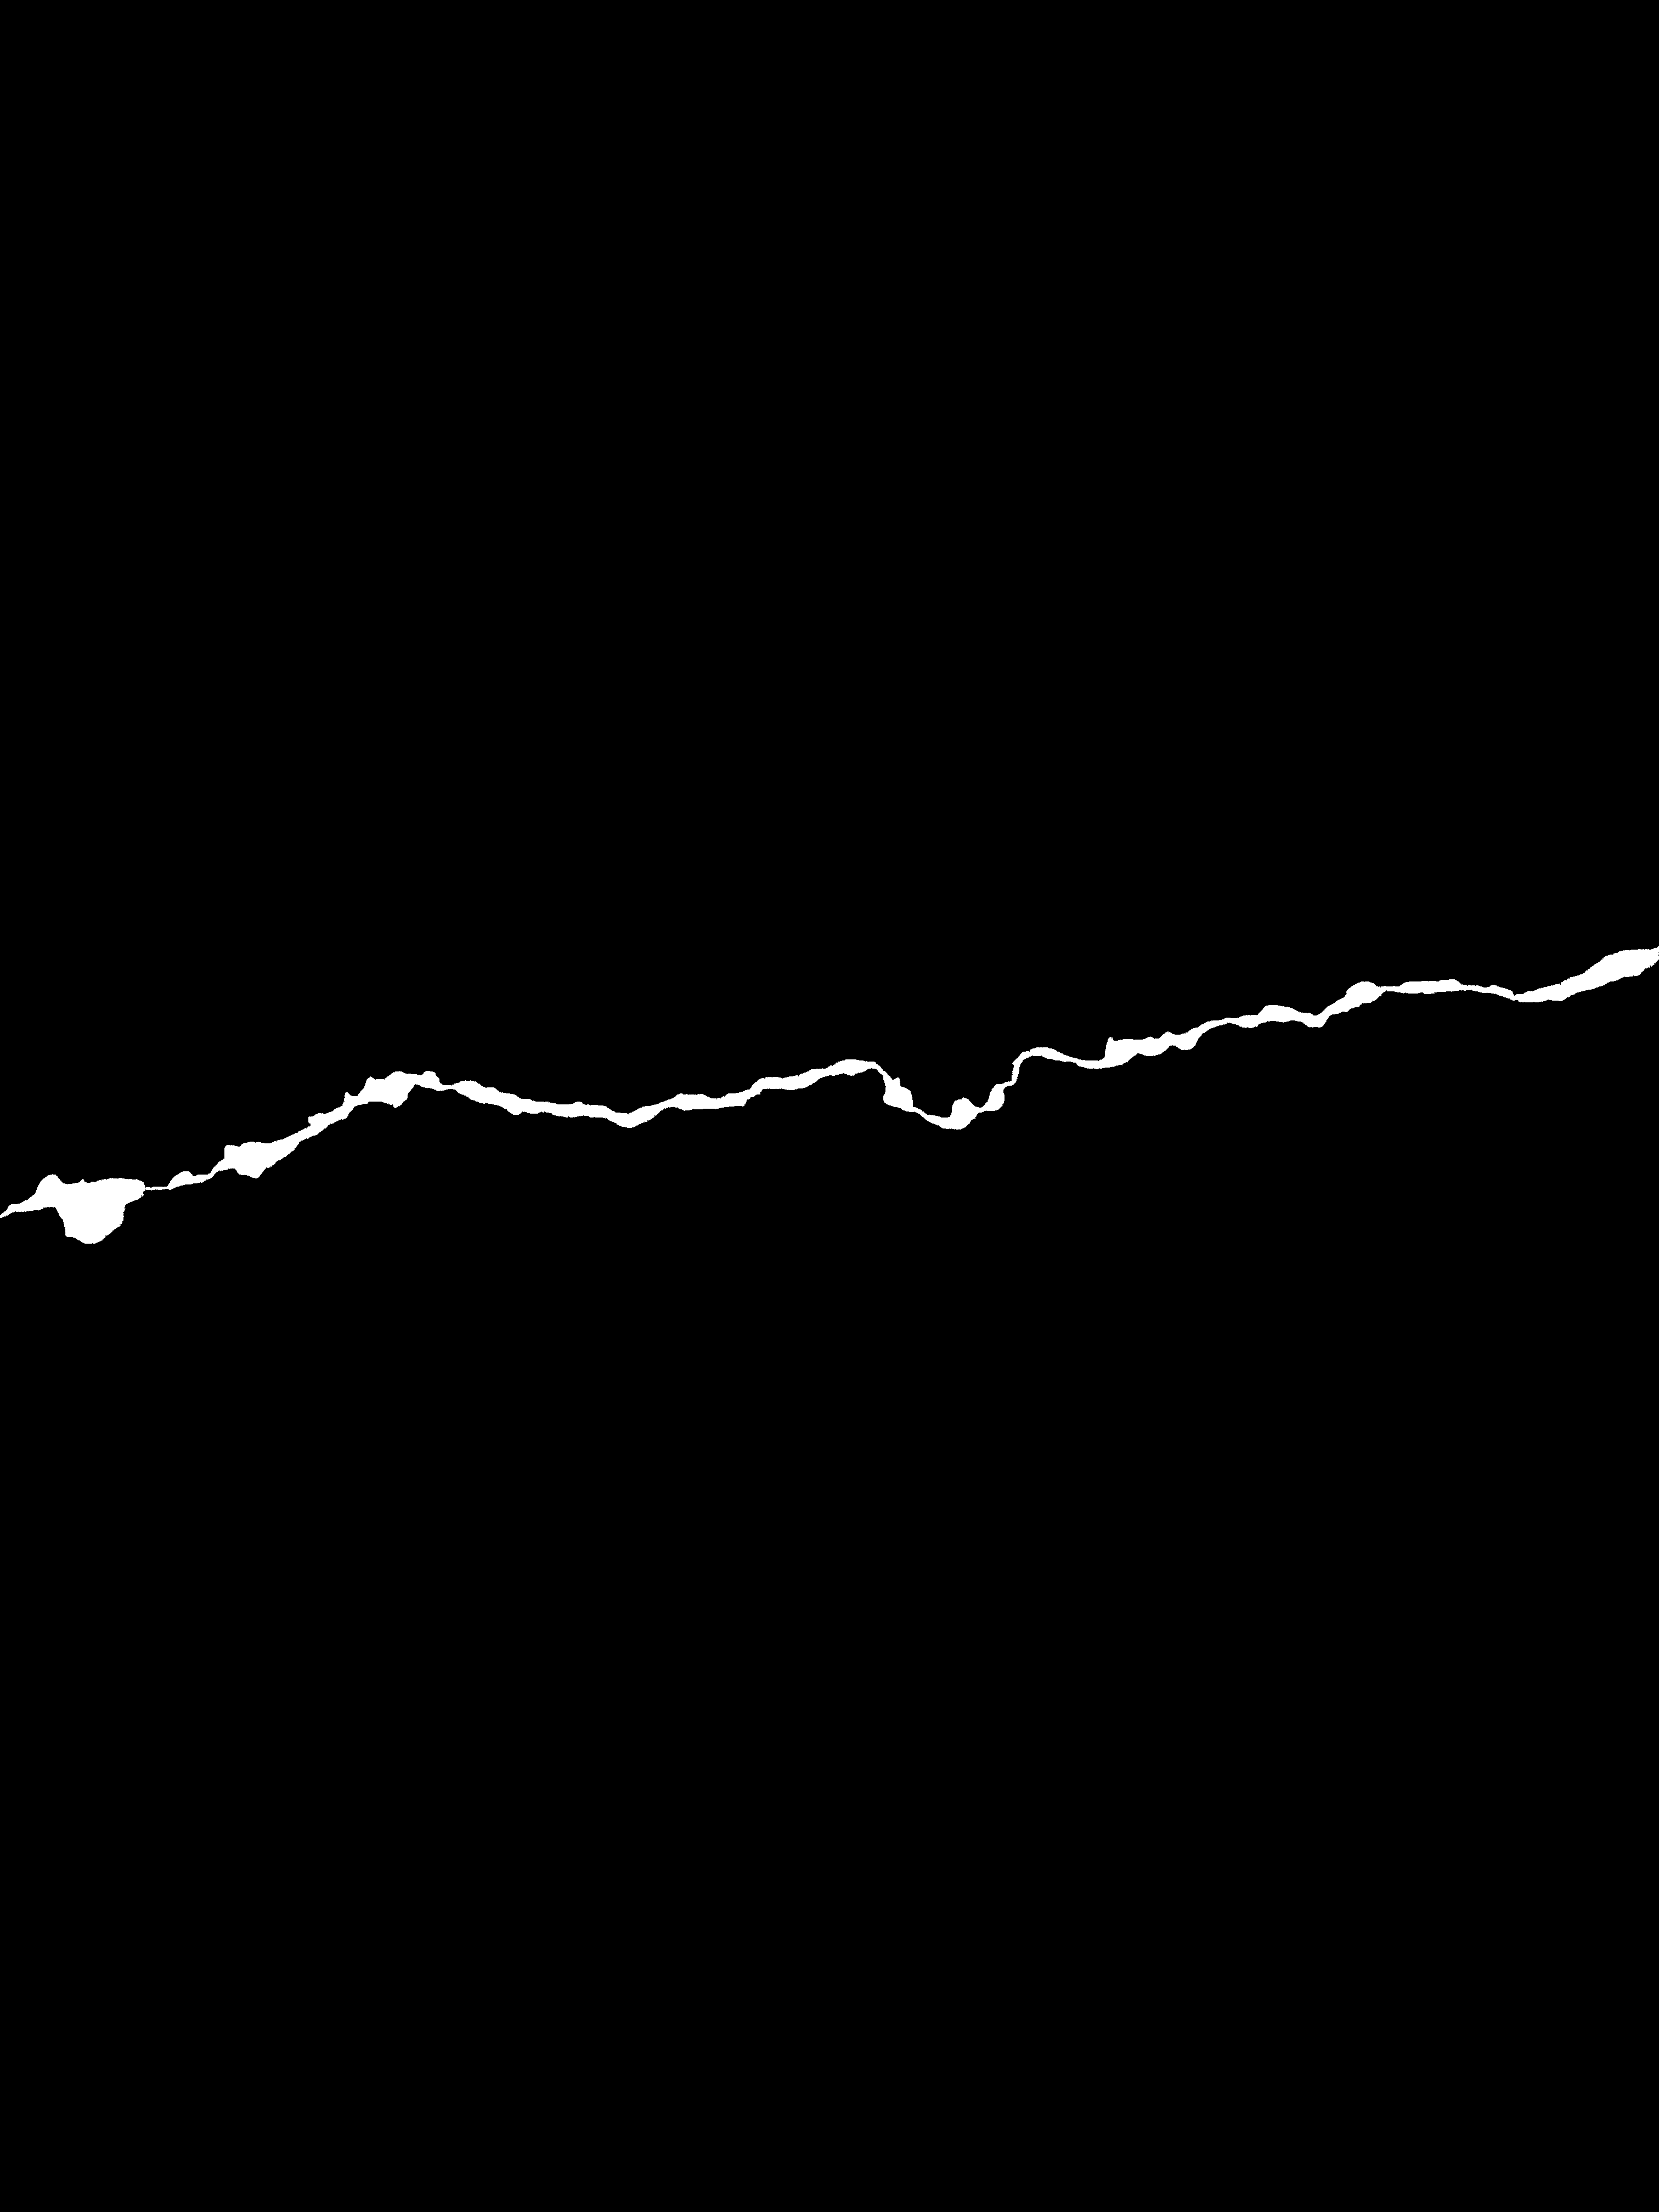Crack: (0, 920, 1659, 1270)
